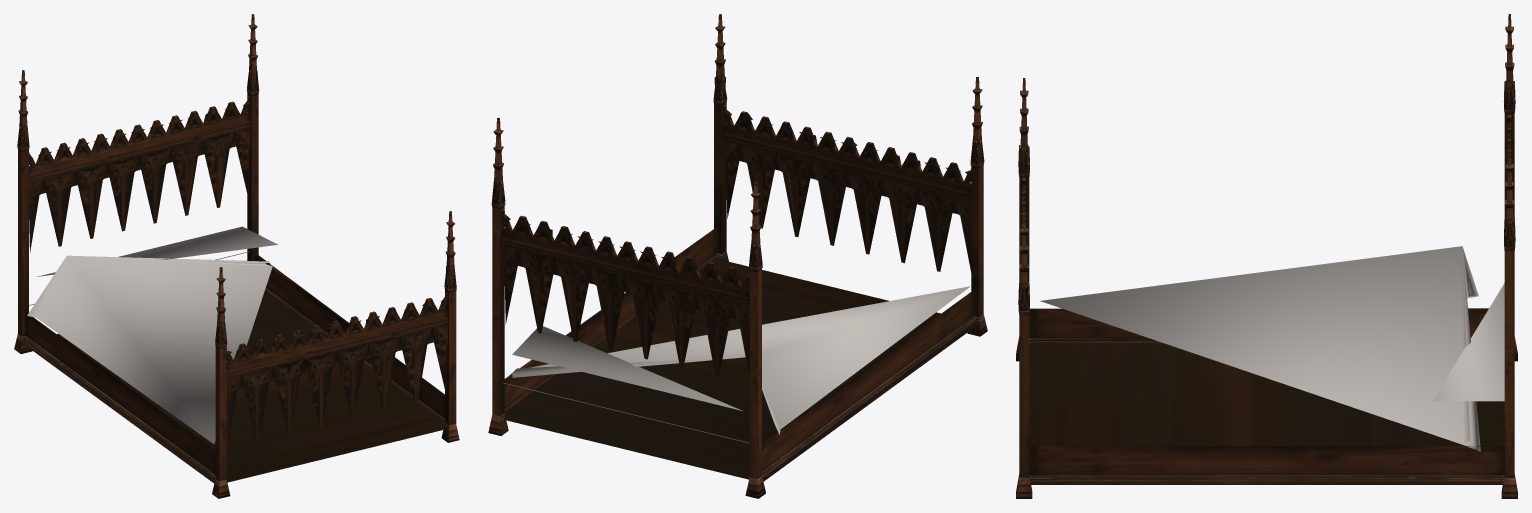
3 renders of one model, left to right at view 1: azimuth 30°, elevation 25°; view 2: azimuth 150°, elevation 25°; view 3: azimuth 270°, elevation 25°, orthographic. The views are drawn at different scales.
Parts seen in each view (by area): view 1: GothicBed_01; view 2: GothicBed_01; view 3: GothicBed_01.
Boxes of the visible parts, x1=… form: GothicBed_01: x1=14, y1=14, x2=459, y2=498; GothicBed_01: x1=488, y1=14, x2=987, y2=498; GothicBed_01: x1=1016, y1=14, x2=1517, y2=498.
Bounding box in the file's own units: 1.4 × 1.53 × 2.03.
Materials: 1 (1 with a texture image).
